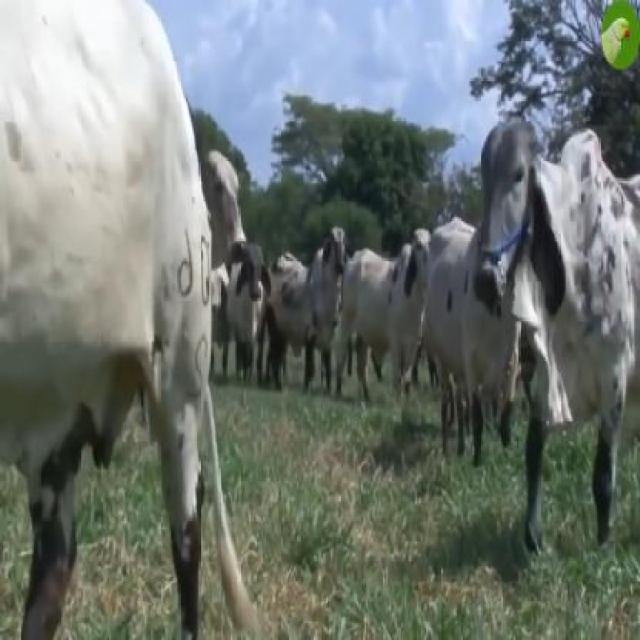Cow: (476, 114, 638, 543)
